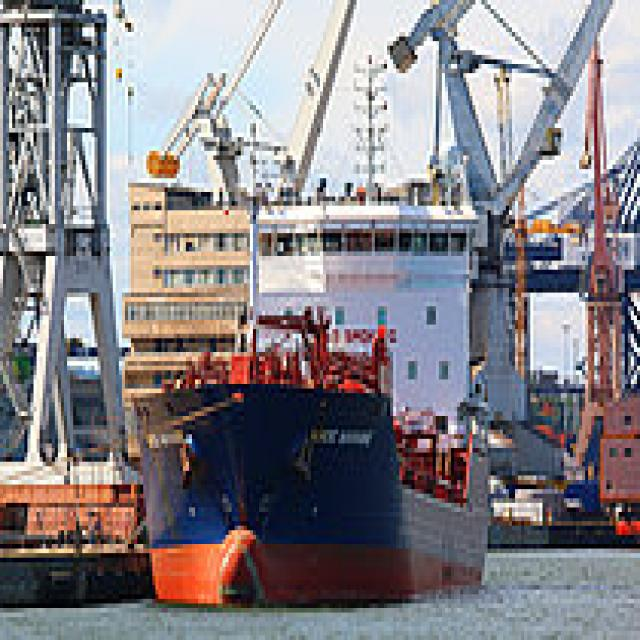Tanker: (128, 46, 491, 603)
